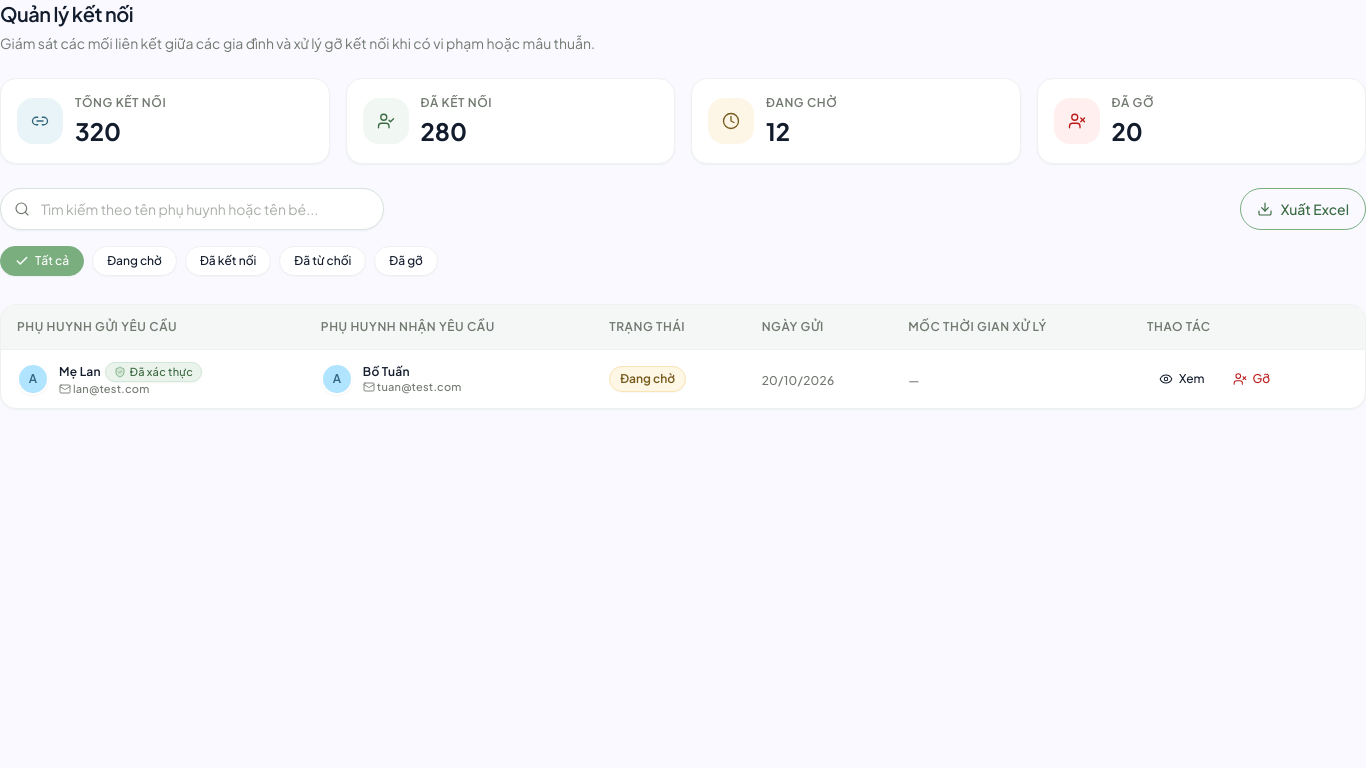
Scenario: AdminConnectionManagementPage › renders table with connections list and opens detail modal on click
Expected: the heading "Quản lý kết nối" is shown, [0, 1, 133, 26]
Expected: the text "lan@test.com" is shown, [59, 382, 150, 395]
Click the button "Xem": [1182, 379] box [1147, 365, 1216, 393]
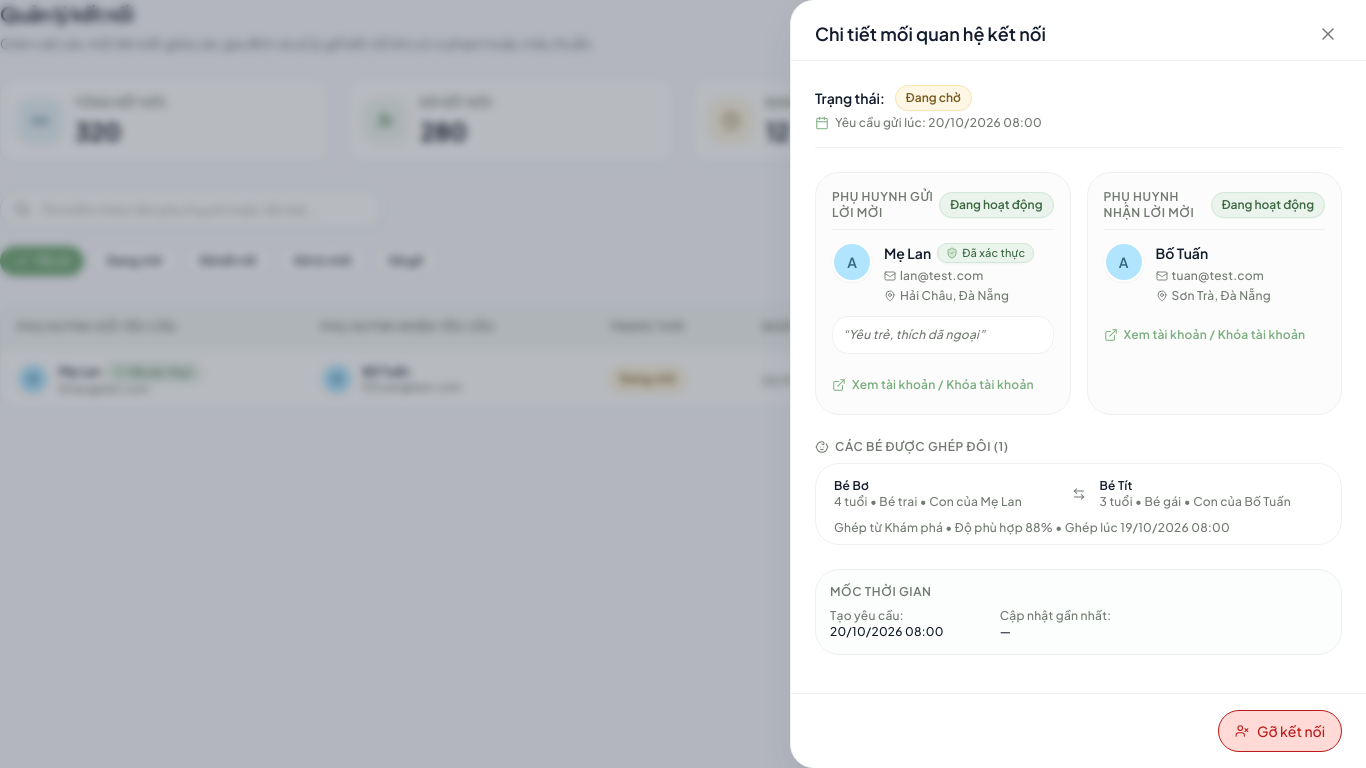
Expected: the heading "Chi tiết mối quan hệ kết nối" is shown, [815, 20, 1046, 48]
Expected: the text "Phụ huynh gửi lời mời" is shown, [832, 189, 939, 221]
Expected: the text "Phụ huynh nhận lời mời" is shown, [1104, 189, 1194, 220]
